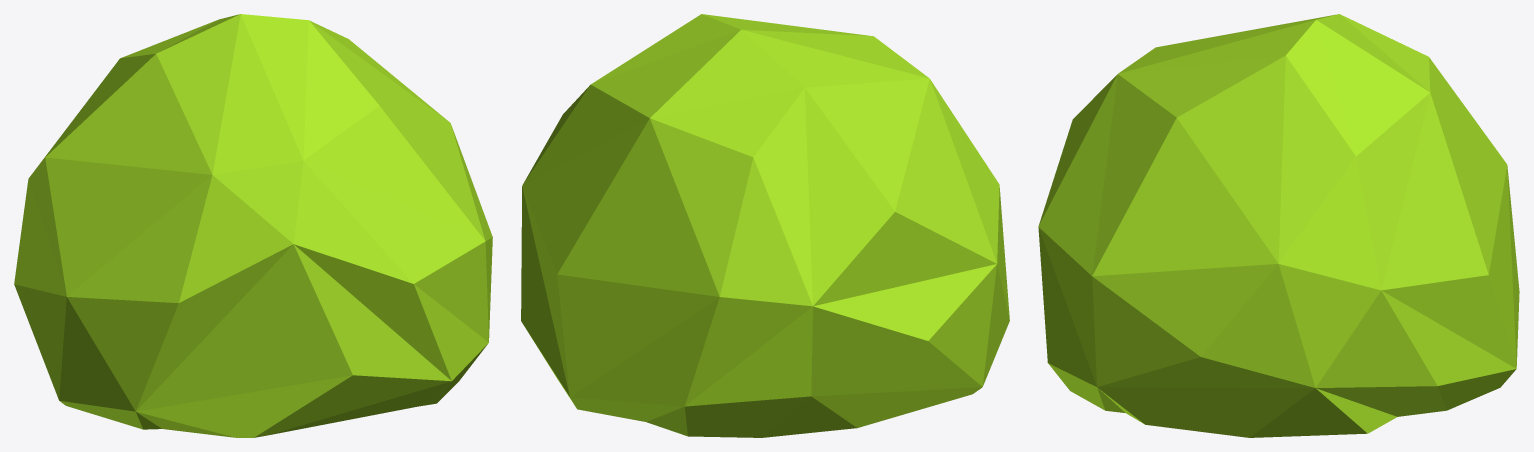
File: tree_3.fbx
3 views of the same model, side by side, from view 1: azimuth 30°, elevation 25°; view 2: azimuth 150°, elevation 25°; view 3: azimuth 270°, elevation 25° (orthographic). The views are drawn at different scales.
Parts seen in each view (by area): view 1: tree_3; view 2: tree_3; view 3: tree_3.
Part boxes in pixels (x1,y1,x2,y2): tree_3: (14,14,492,437); tree_3: (521,14,1009,437); tree_3: (1038,14,1519,437).
Size of the model in its own units: 178 by 131 by 172.
